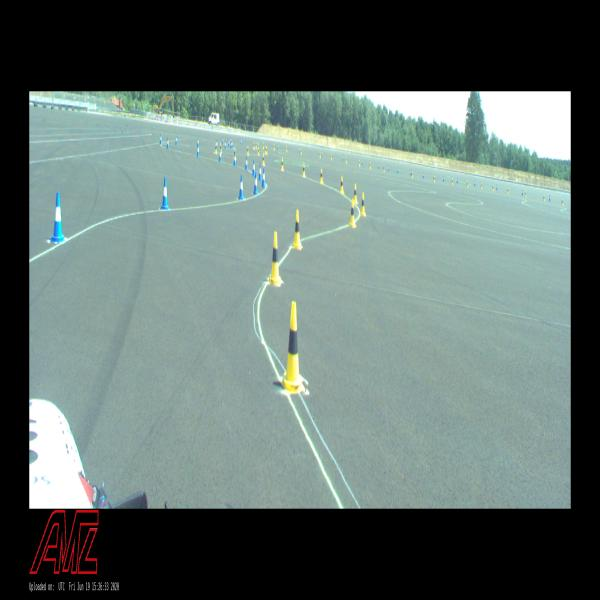blue_cone: (52, 193, 64, 242), (160, 177, 169, 210), (238, 174, 244, 199), (253, 173, 258, 194), (261, 168, 266, 188), (251, 160, 256, 175), (258, 163, 262, 181), (244, 156, 248, 171), (218, 150, 222, 163), (196, 144, 200, 157), (166, 138, 169, 149), (175, 135, 178, 145), (234, 153, 236, 166), (160, 134, 162, 145), (197, 138, 199, 148), (216, 140, 218, 148), (496, 184, 498, 190), (474, 180, 476, 186), (456, 177, 458, 183), (410, 169, 412, 175), (397, 167, 399, 173), (321, 151, 323, 157), (277, 144, 279, 150), (222, 138, 224, 144), (228, 140, 230, 146), (230, 142, 232, 148), (225, 141, 226, 149), (232, 140, 233, 148), (549, 195, 550, 202), (522, 188, 523, 195), (443, 175, 444, 182), (434, 173, 435, 180), (388, 165, 389, 172), (342, 155, 343, 162), (423, 172, 424, 178), (378, 163, 379, 169), (362, 159, 363, 165), (299, 148, 300, 154), (241, 139, 242, 145), (230, 138, 231, 144), (258, 141, 259, 146)
yellow_cone: (282, 303, 304, 390), (269, 232, 281, 286), (292, 210, 302, 248), (348, 200, 356, 227), (360, 192, 366, 216), (352, 184, 358, 203), (340, 176, 344, 193), (303, 162, 306, 177), (281, 158, 284, 170), (262, 153, 265, 165), (320, 168, 322, 183), (215, 143, 217, 154), (247, 145, 249, 156), (220, 143, 222, 153), (234, 148, 236, 158), (543, 194, 545, 202), (411, 170, 413, 178), (262, 142, 264, 150), (253, 142, 255, 150), (258, 148, 260, 156), (507, 187, 509, 194), (433, 175, 435, 182), (383, 165, 385, 172), (319, 151, 321, 158), (300, 148, 302, 155), (273, 143, 275, 150), (255, 142, 257, 149), (257, 144, 259, 151), (492, 185, 494, 191), (480, 183, 482, 189), (345, 157, 347, 163), (562, 198, 563, 206), (265, 146, 266, 154), (525, 190, 526, 197), (452, 178, 453, 185), (370, 162, 371, 169), (359, 159, 360, 166), (331, 153, 332, 160), (286, 145, 287, 152), (266, 147, 267, 154), (467, 181, 468, 187)
